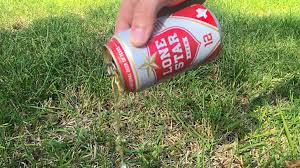can: (105, 4, 223, 93)
